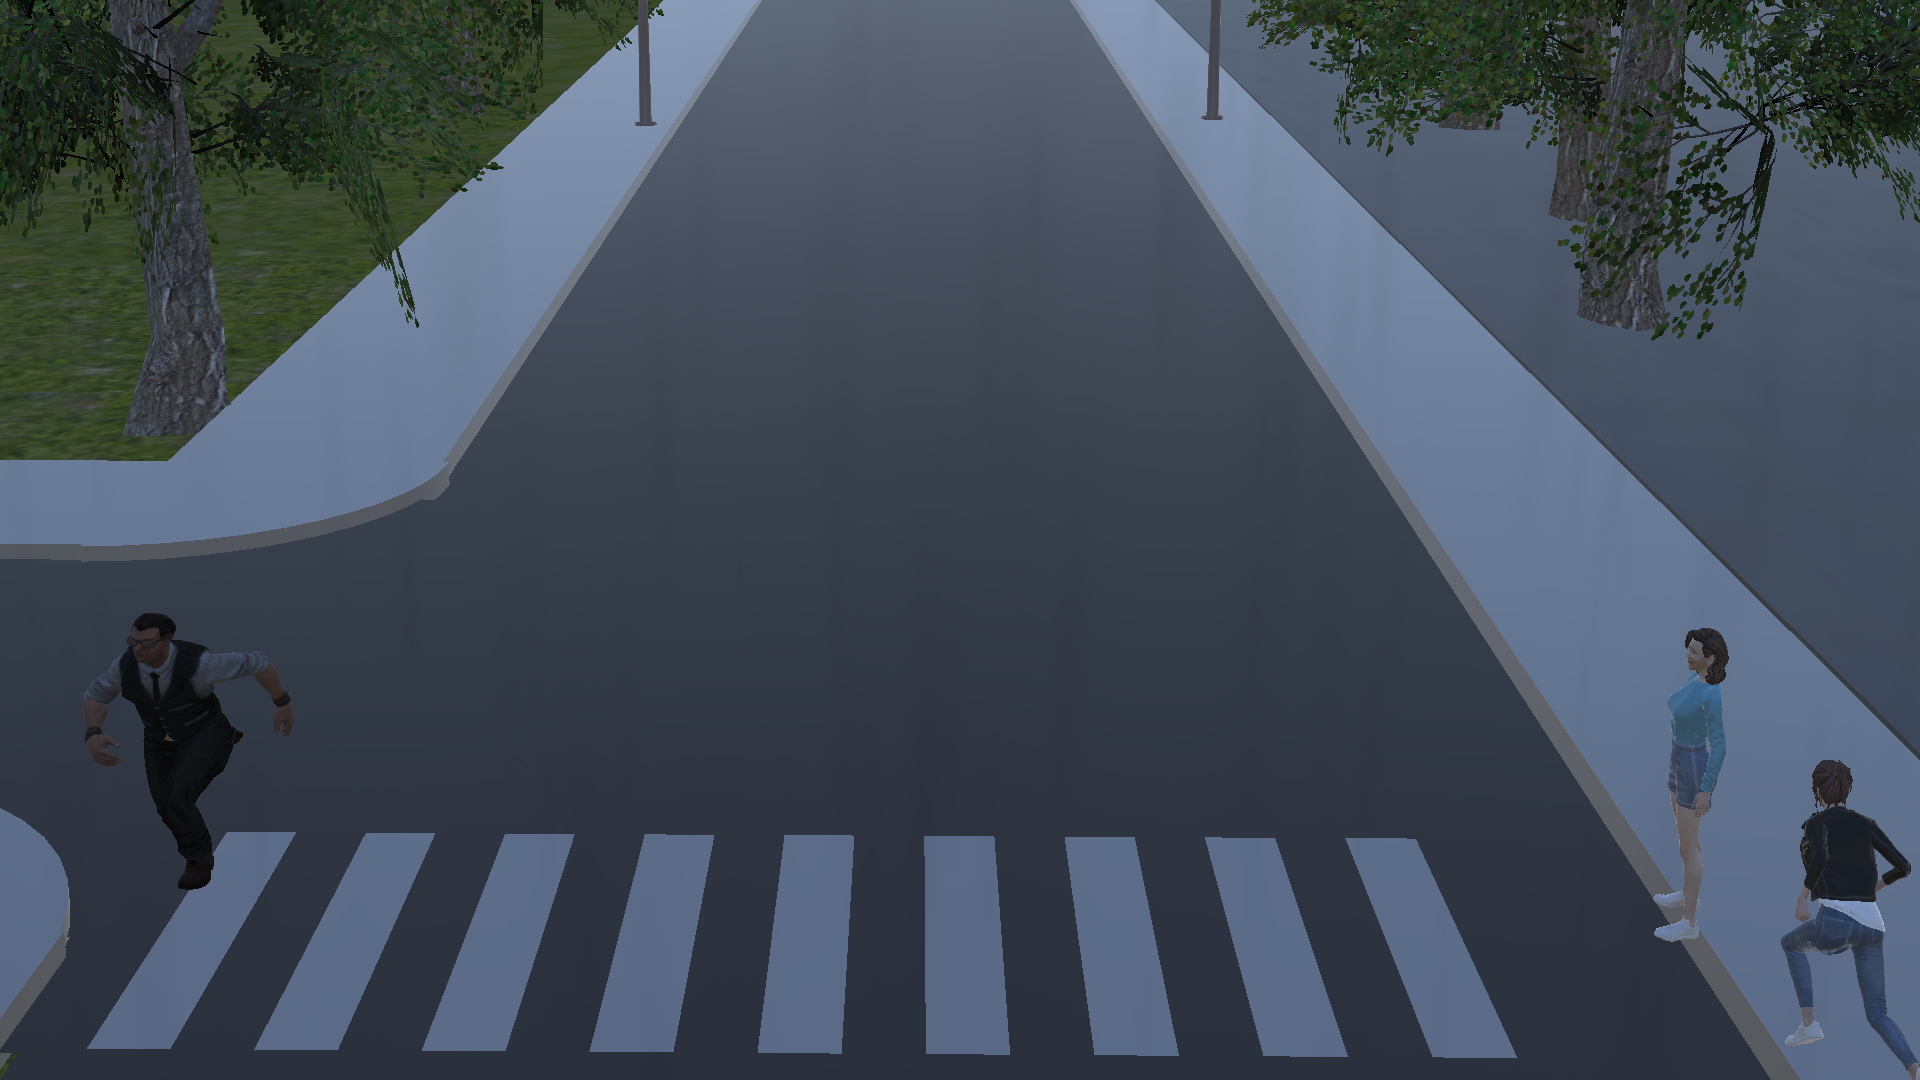pedestrian: (58, 605, 310, 908), (1764, 746, 1920, 1077), (1627, 611, 1733, 970)
